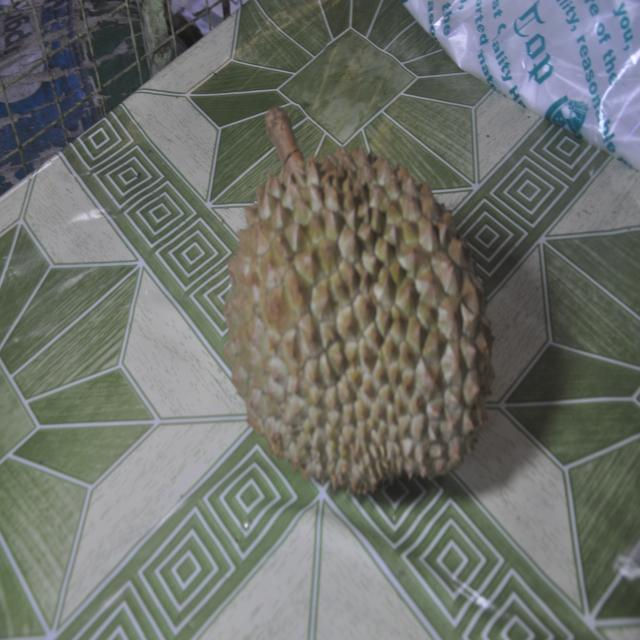mature: (224, 108, 493, 509)
